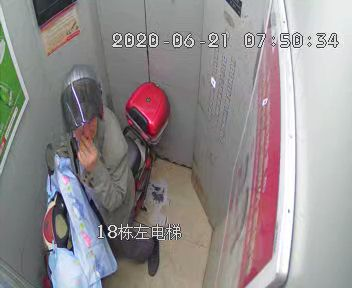Electric-bicycle: (41, 80, 170, 288)
